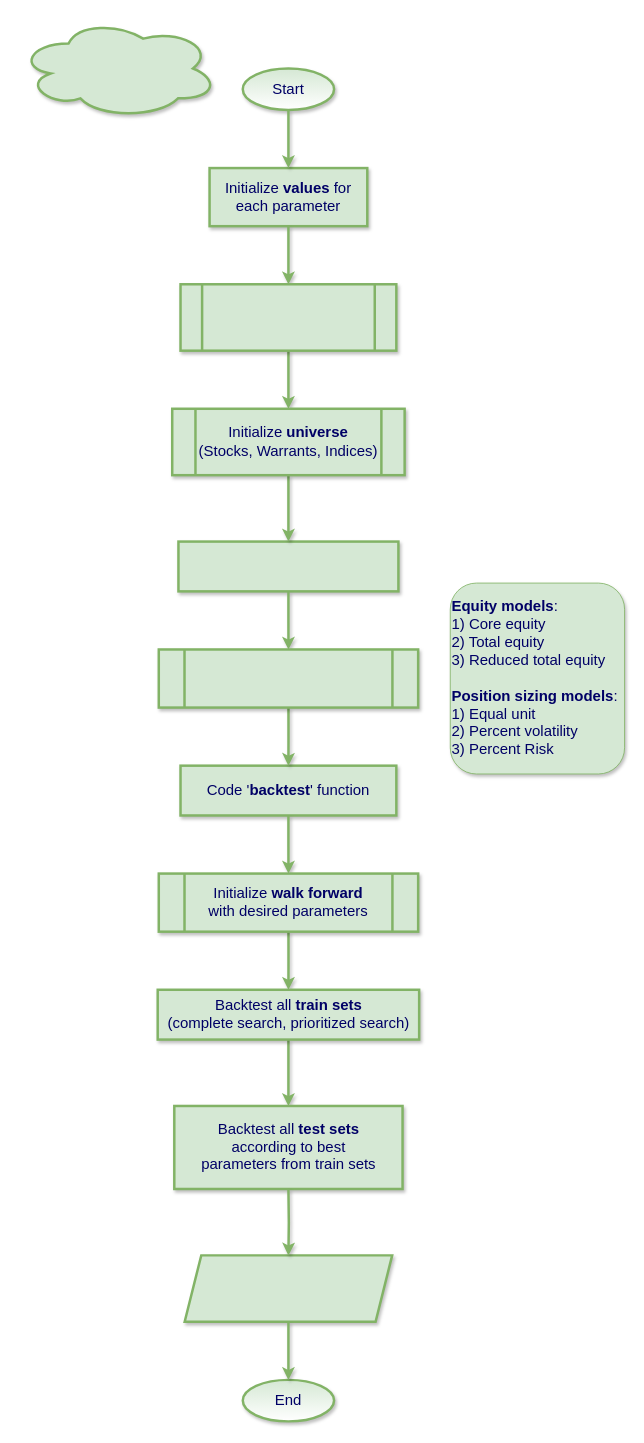
This 644x1443 diagram has some shape labels left out. The centre of each missing label's shape, as x and y in pixels:
Get dataframe from universe: (288,567)
Initialize portfolio with desired parameters and model: (289,679)
Initialize required indicators according to initialized values: (289,318)
System auto output all performances and objective function: (289,1289)
Walk Forward_Main Flowchart: (119,69)
